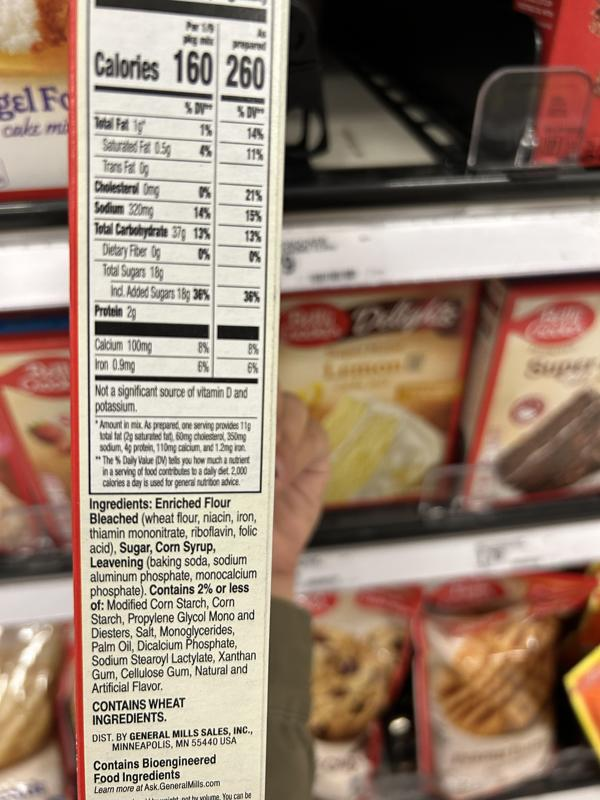ingredients: (87, 495, 261, 695)
